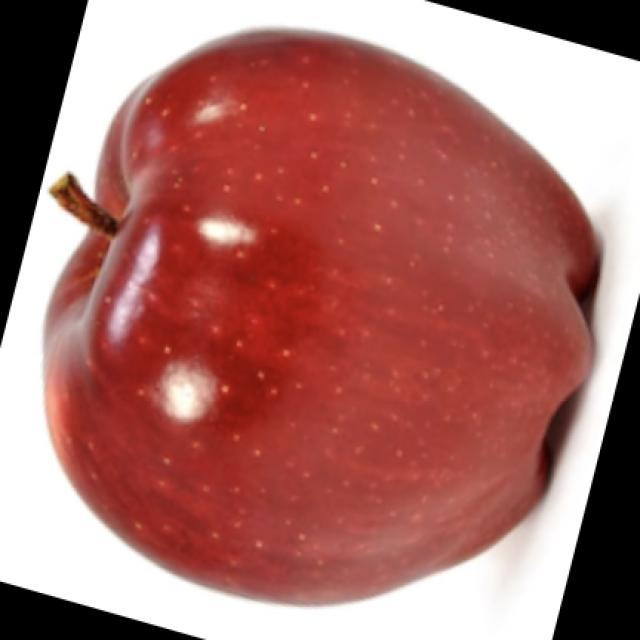Fresh Apple: (50, 40, 598, 607)
